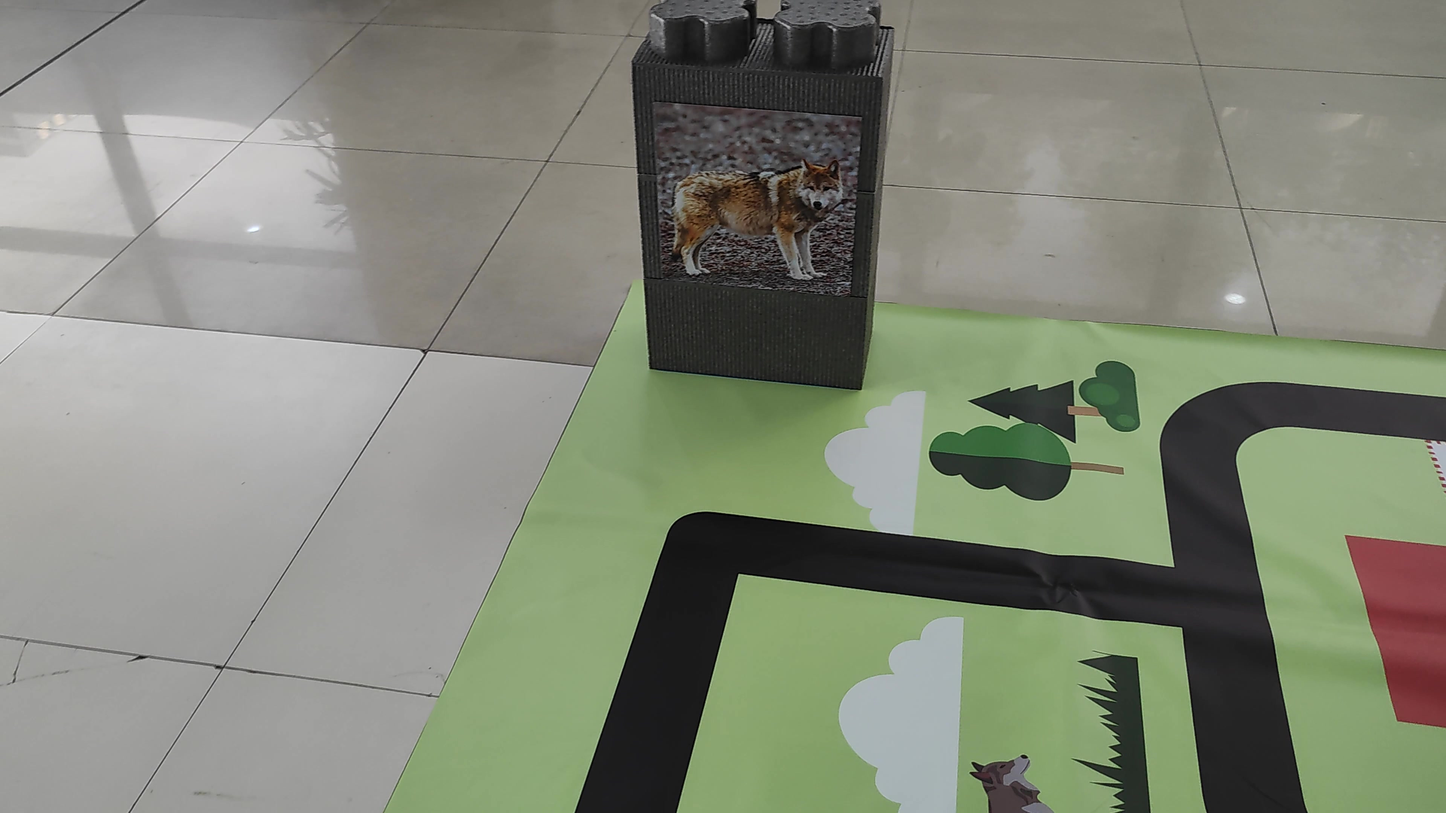wolf: (650, 124, 855, 276)
